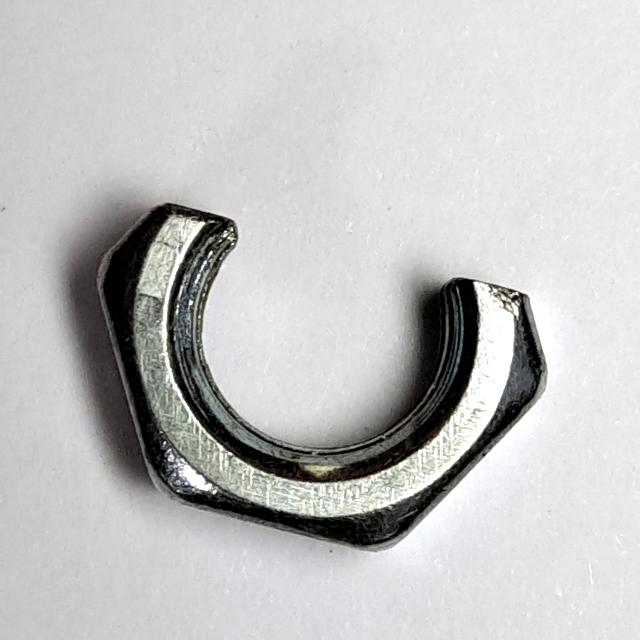Fracture: (83, 188, 561, 572)
